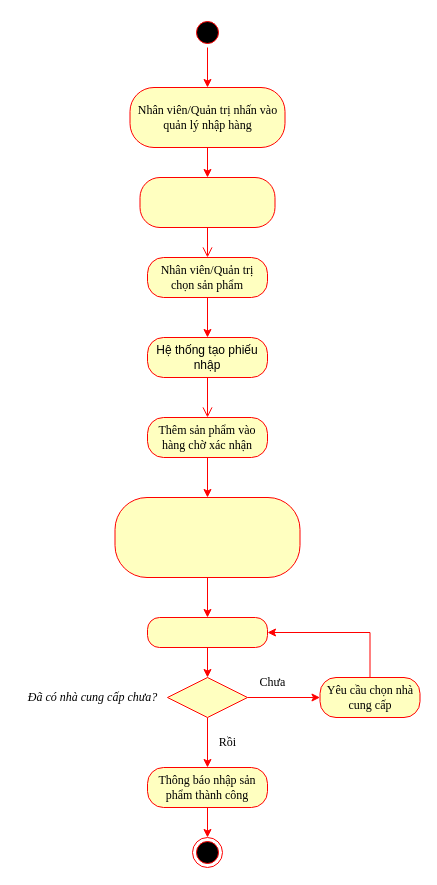
The diagram is 437 pixels wide and 885 high, and some of its shapes have lost their labels. The shapes that lost their labels are listed below. From the top down, each one's centre as x and y in pixels, then its label:
At [207,202]: "Hệ thống hiển thị giao diện nhập hàng".
At [207,537]: "Actors kiểm tra số lượng sản phẩm trước khi xác nhận".
At [207,632]: "Xác nhận nhập hàng".
